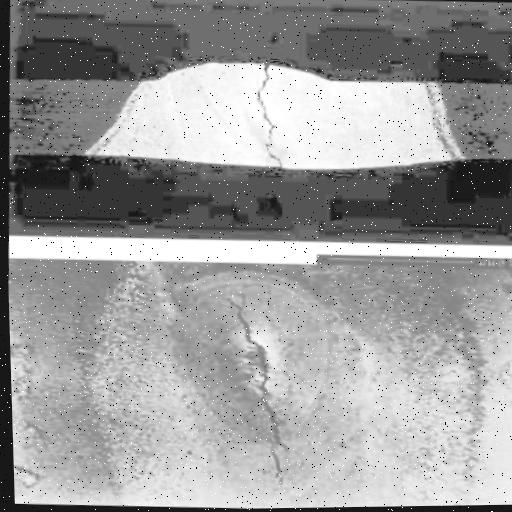crack: (198, 284, 300, 491), (240, 64, 287, 169)
